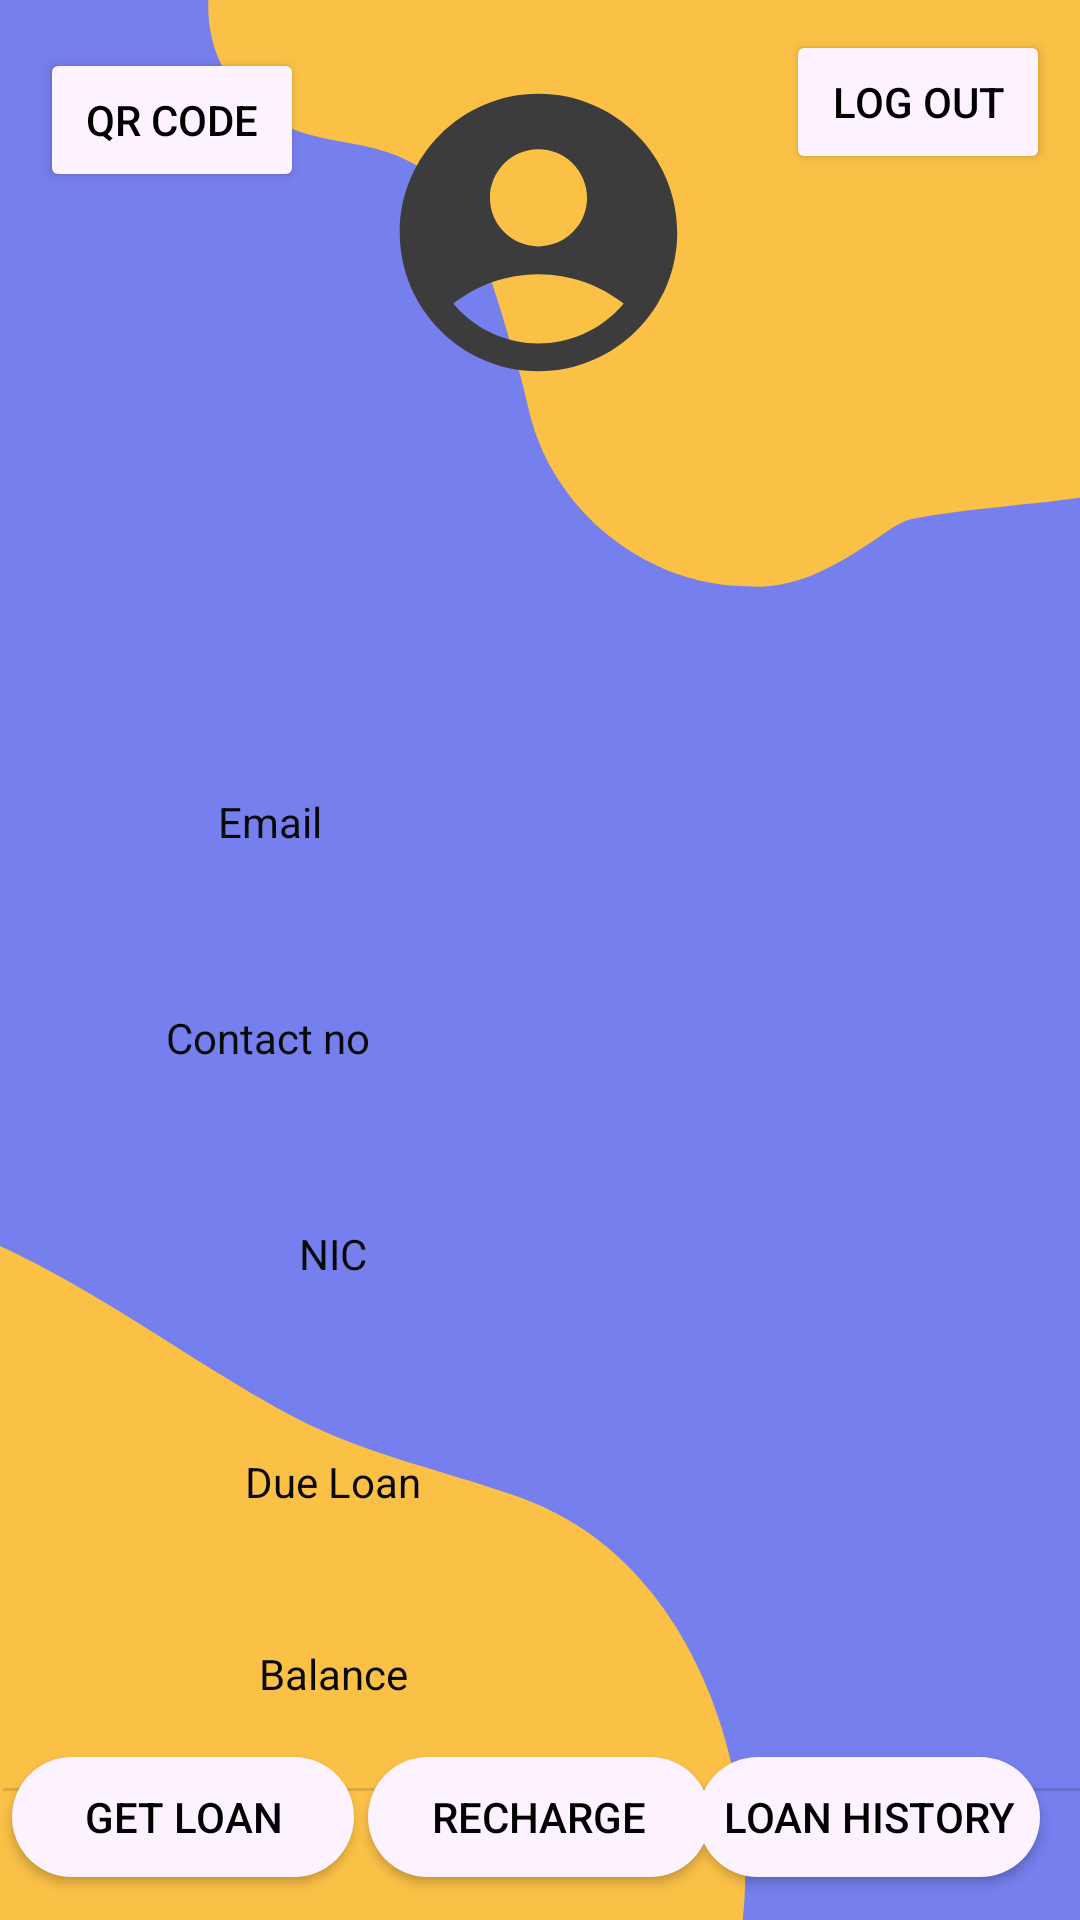

Named icons in this screenshot (1080px x 1920px) and their bounding boxes, bbox(x1, y1, x2, y2):
navbar user: bbox(331, 93, 678, 399)
